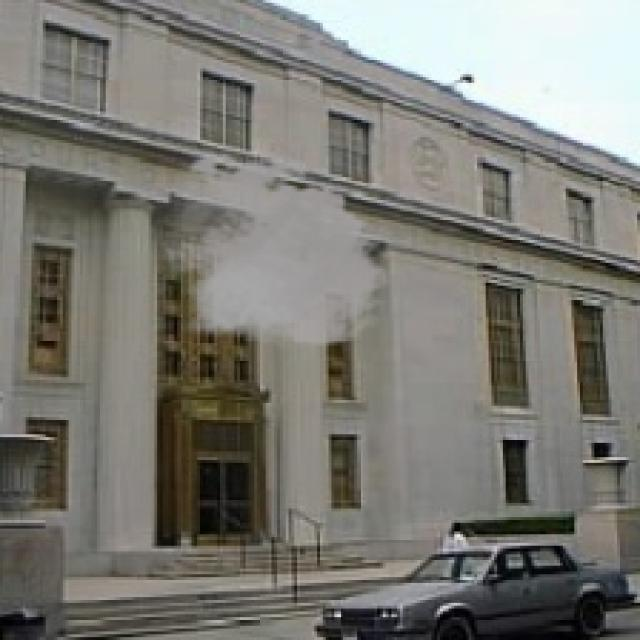smoke: (149, 146, 397, 354)
